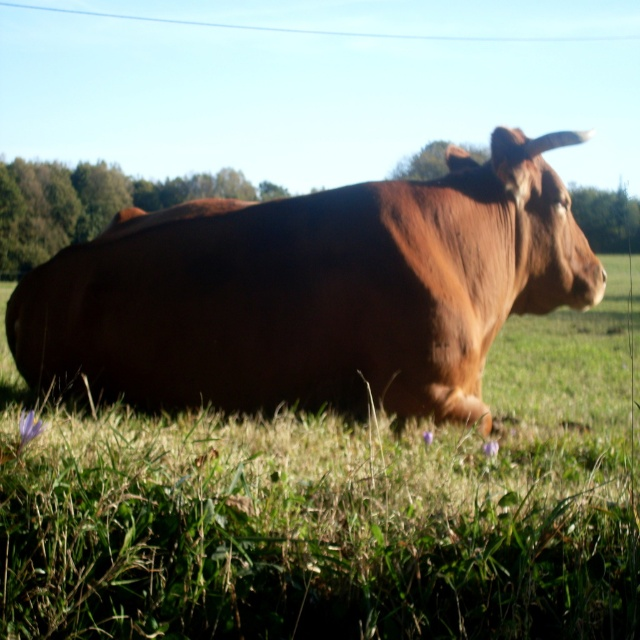Cattle: (5, 126, 607, 437)
